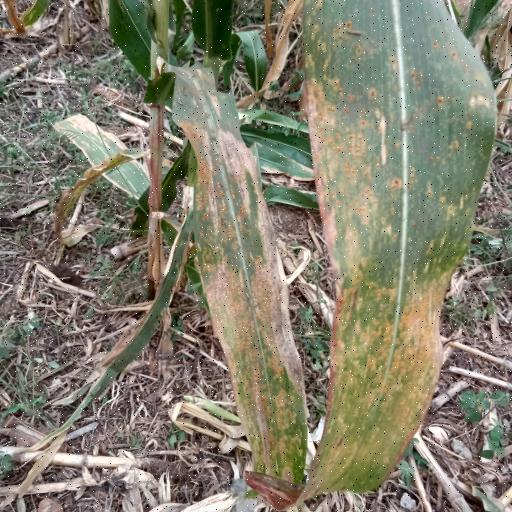Corn_Rust: (289, 0, 512, 512), (168, 56, 315, 512)
